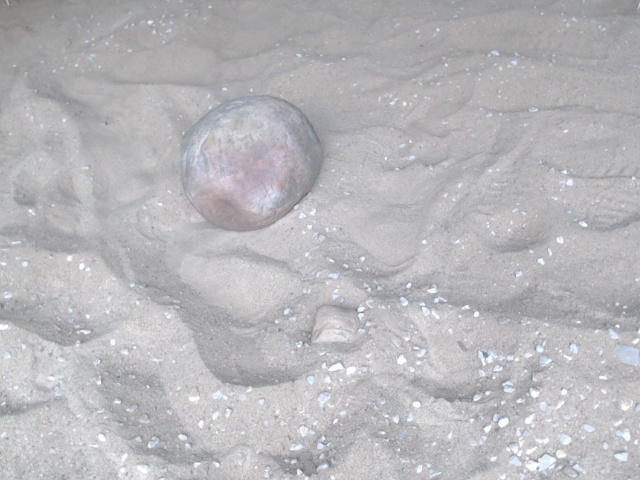rock: (175, 89, 329, 236), (304, 300, 365, 358)
